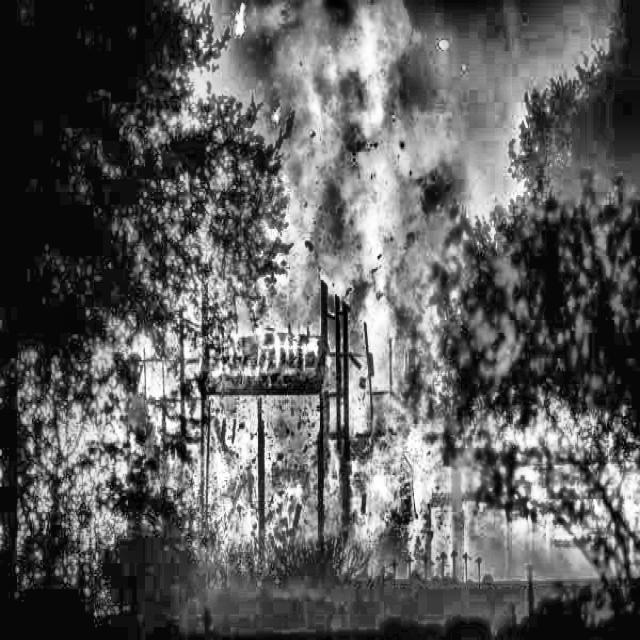fire: (181, 0, 514, 543)
